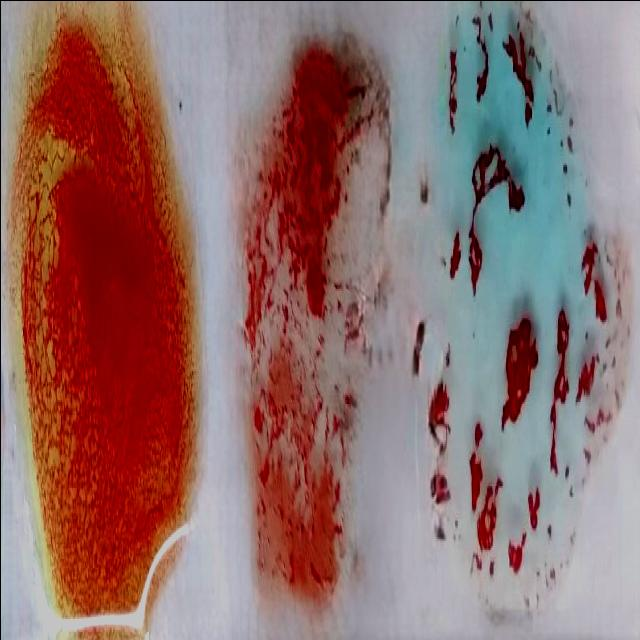A: (413, 8, 618, 594)
B: (21, 0, 186, 628)
D: (244, 32, 383, 589)
